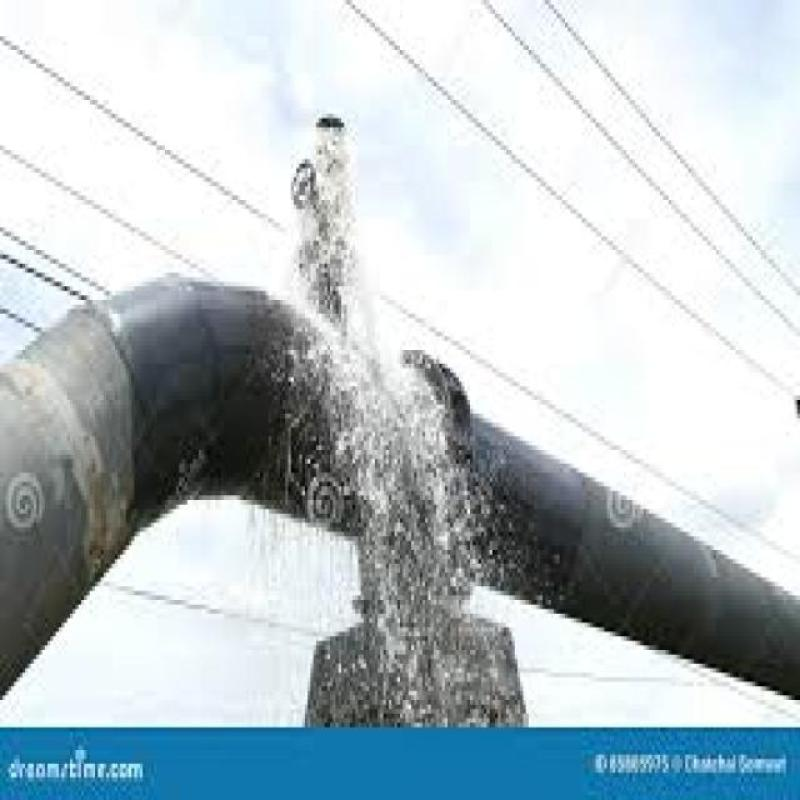Fracture: (182, 59, 560, 638)
